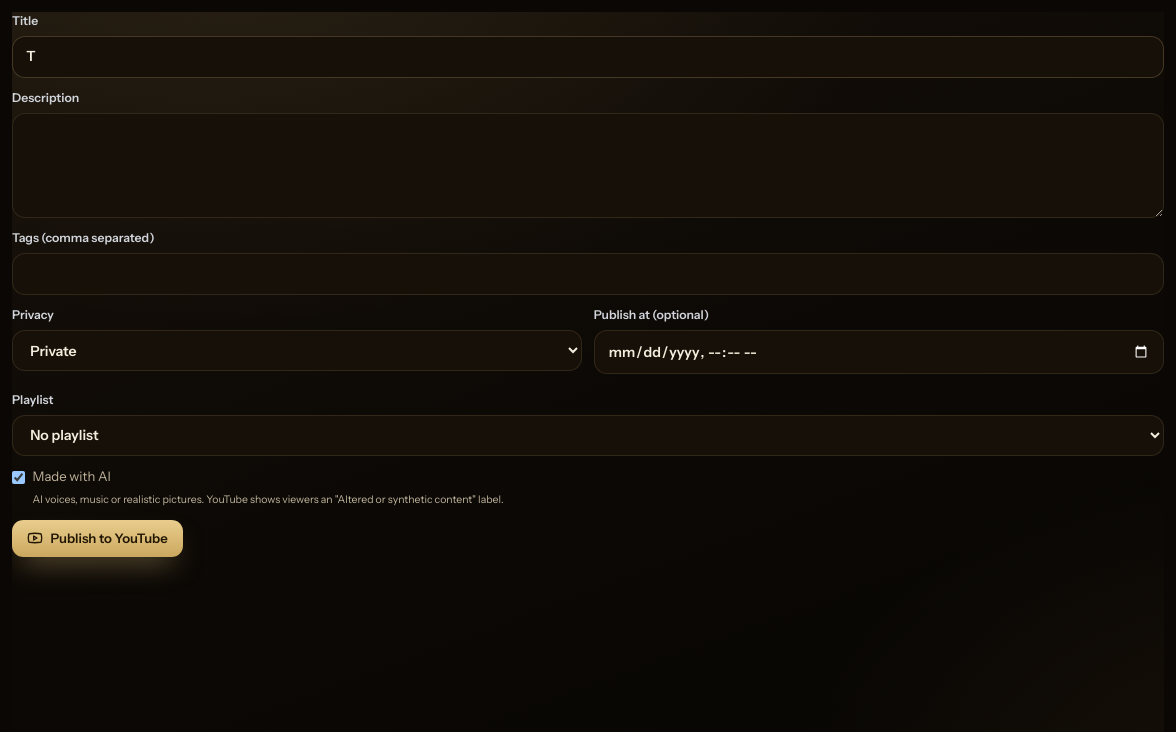
YoutubePublishPanel › a new playlist needs a name before publishing
Select "New playlist…" in the dropdown labelled "Playlist" at (588, 435), box x1=12 y1=415 x2=1164 y2=456
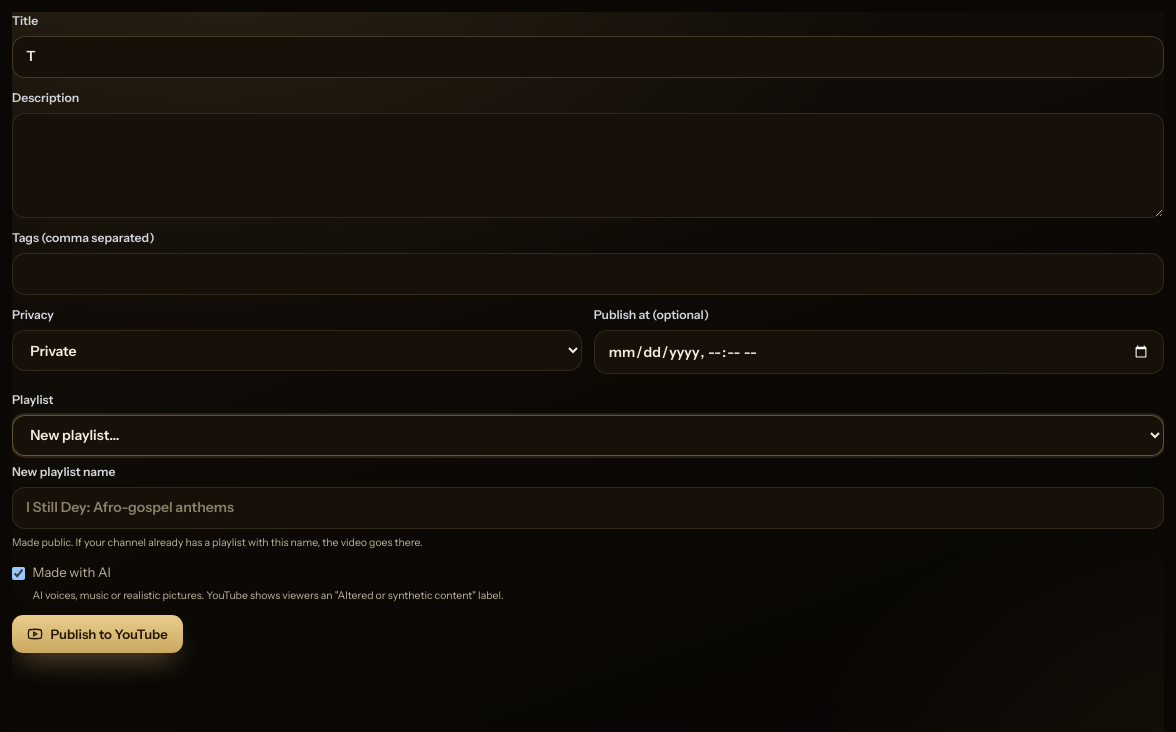
Click the button "Publish to YouTube".
click(97, 634)  # box x1=12 y1=615 x2=183 y2=653
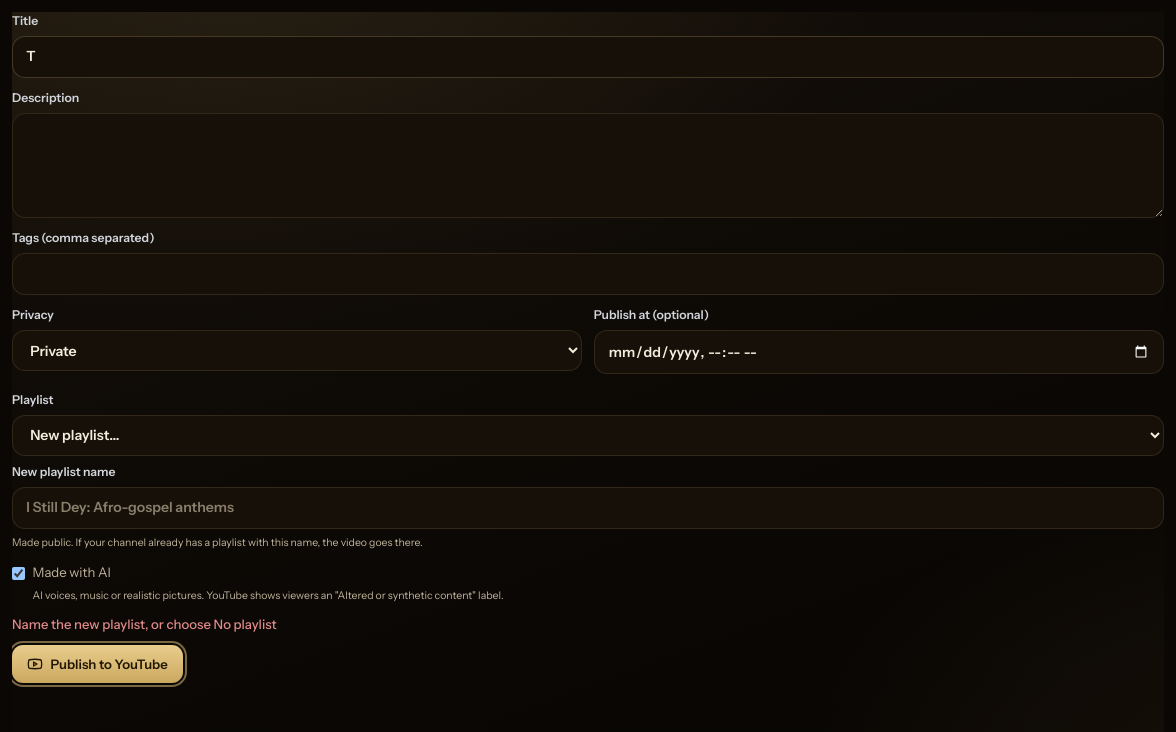
Result: the text "Name the new playlist, or choose No playlist" is shown at x1=12 y1=616 x2=277 y2=632
